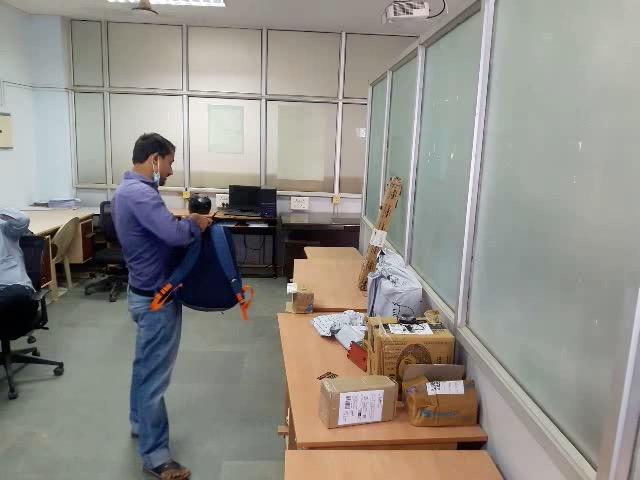shoplifting: (93, 188, 314, 374)
